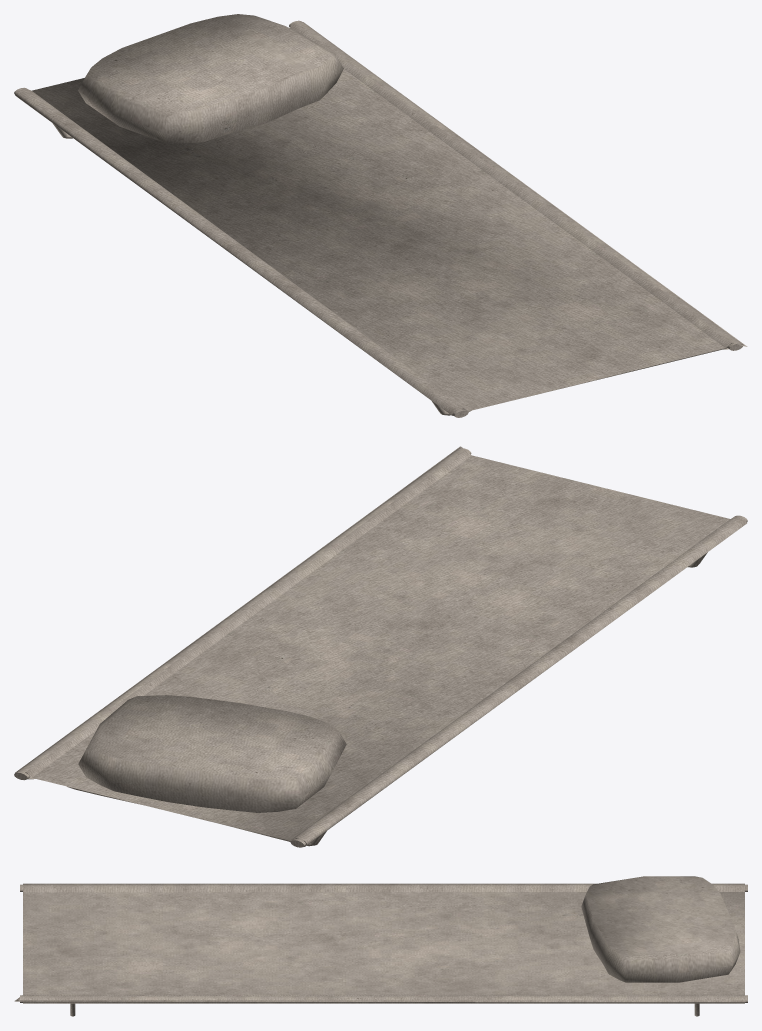
Rendered from Bed.fbx.
The picture shows the model from 3 angles, top to bottom: view 1: azimuth 30°, elevation 25°; view 2: azimuth 150°, elevation 25°; view 3: azimuth 270°, elevation 25°; orthographic projection. The views are drawn at different scales.
Visible parts, largest first — view 1: Bed, Pillow; view 2: Bed, Pillow; view 3: Bed, Pillow.
Part boxes in pixels (x1,y1,x2,y2): Bed: (14,20,747,417); Pillow: (78,14,343,143); Bed: (14,446,747,847); Pillow: (78,695,346,812); Bed: (14,883,747,1016); Pillow: (581,876,740,982).
Bounding box in the file's own units: 2.56 × 0.5435 × 6.77.
2 materials, 2 textured.
